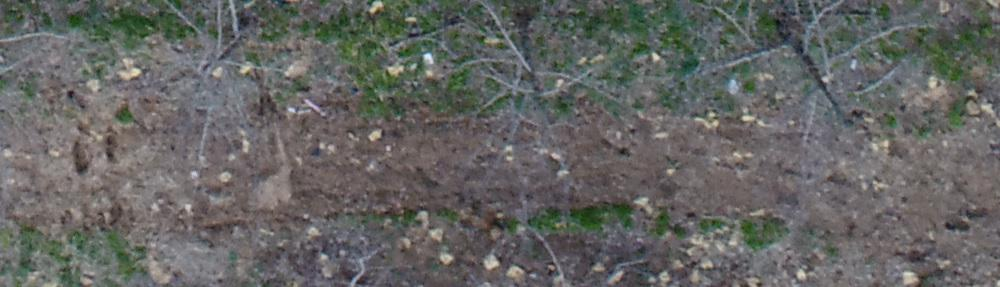apple: (697, 10, 916, 153), (427, 10, 597, 189), (133, 10, 302, 122)
